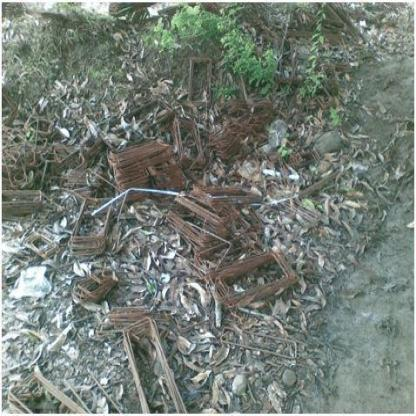rebar: (173, 55, 280, 173), (0, 88, 108, 196), (95, 302, 195, 415), (167, 183, 265, 253), (202, 246, 302, 311), (5, 366, 97, 415), (111, 141, 185, 200), (69, 197, 115, 258), (72, 269, 121, 301), (0, 186, 45, 217), (24, 229, 61, 259), (272, 147, 322, 169)
